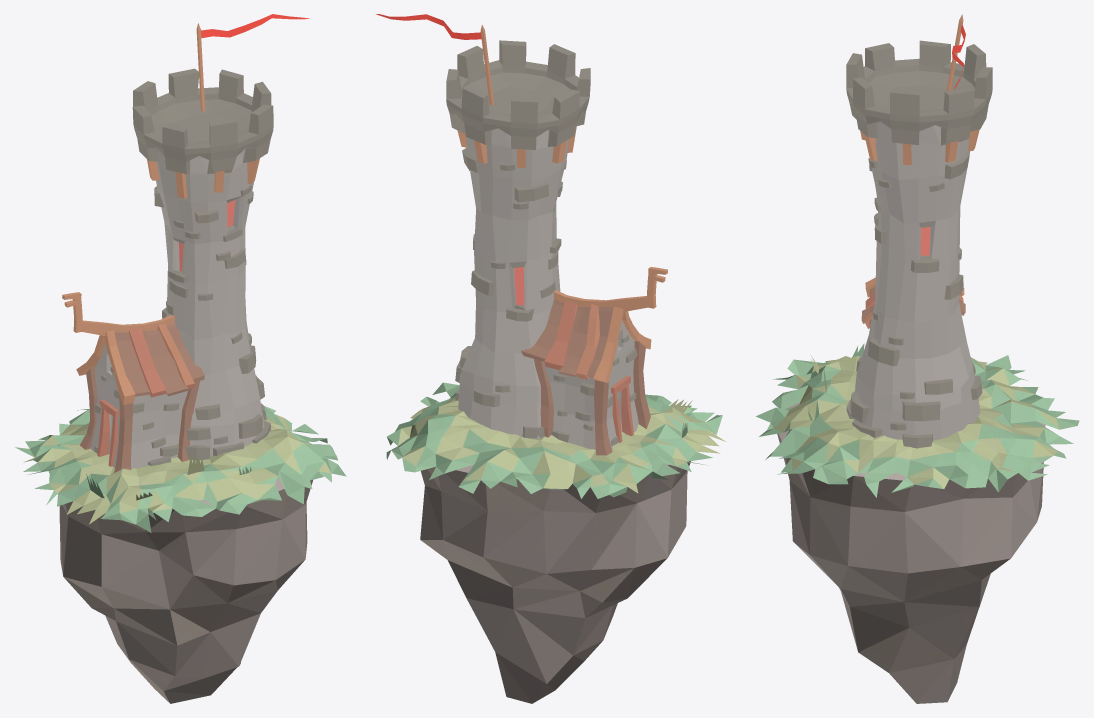
File: castle-transformed.glb
The picture shows the model from 3 angles, left to right: view 1: azimuth 30°, elevation 25°; view 2: azimuth 150°, elevation 25°; view 3: azimuth 270°, elevation 25°; orthographic projection. The views are drawn at different scales.
Visible parts, largest first — view 1: Object_3, Object_4; view 2: Object_3, Object_4; view 3: Object_3, Object_4.
Part boxes in pixels (x1,y1,x2,y2): Object_3: [15, 406, 346, 703]; Object_4: [62, 14, 309, 472]; Object_3: [386, 382, 725, 703]; Object_4: [376, 14, 667, 455]; Object_3: [756, 343, 1079, 703]; Object_4: [846, 14, 992, 448].
Bounding box in the file's own units: 3.84 × 8.13 × 3.43.
Materials: 2 (2 with a texture image).
